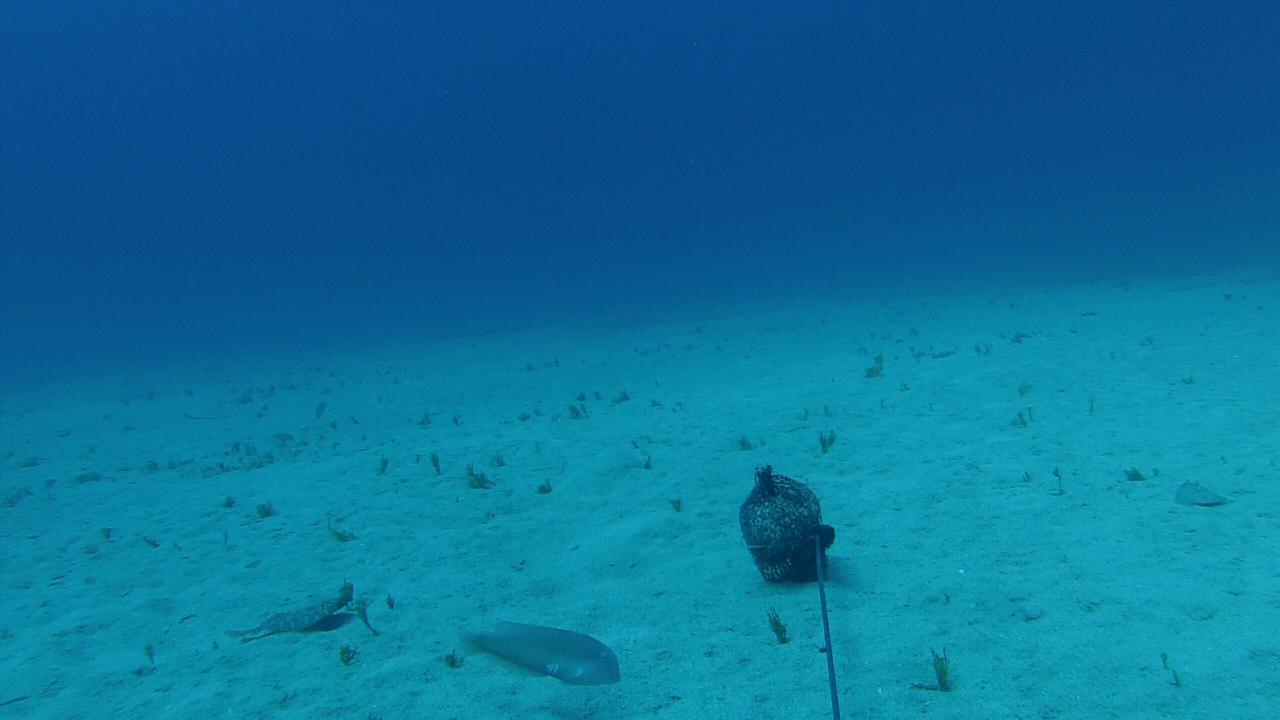bothus: (224, 578, 359, 645), (1175, 474, 1239, 508)
raor: (456, 617, 626, 692)
